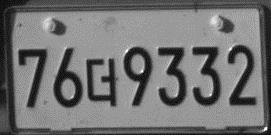2: (225, 43, 256, 107)
3: (156, 46, 187, 107), (191, 45, 221, 106)
6: (52, 46, 83, 108)
7: (17, 47, 50, 110)
9: (121, 45, 155, 107)
더: (85, 56, 118, 107)
